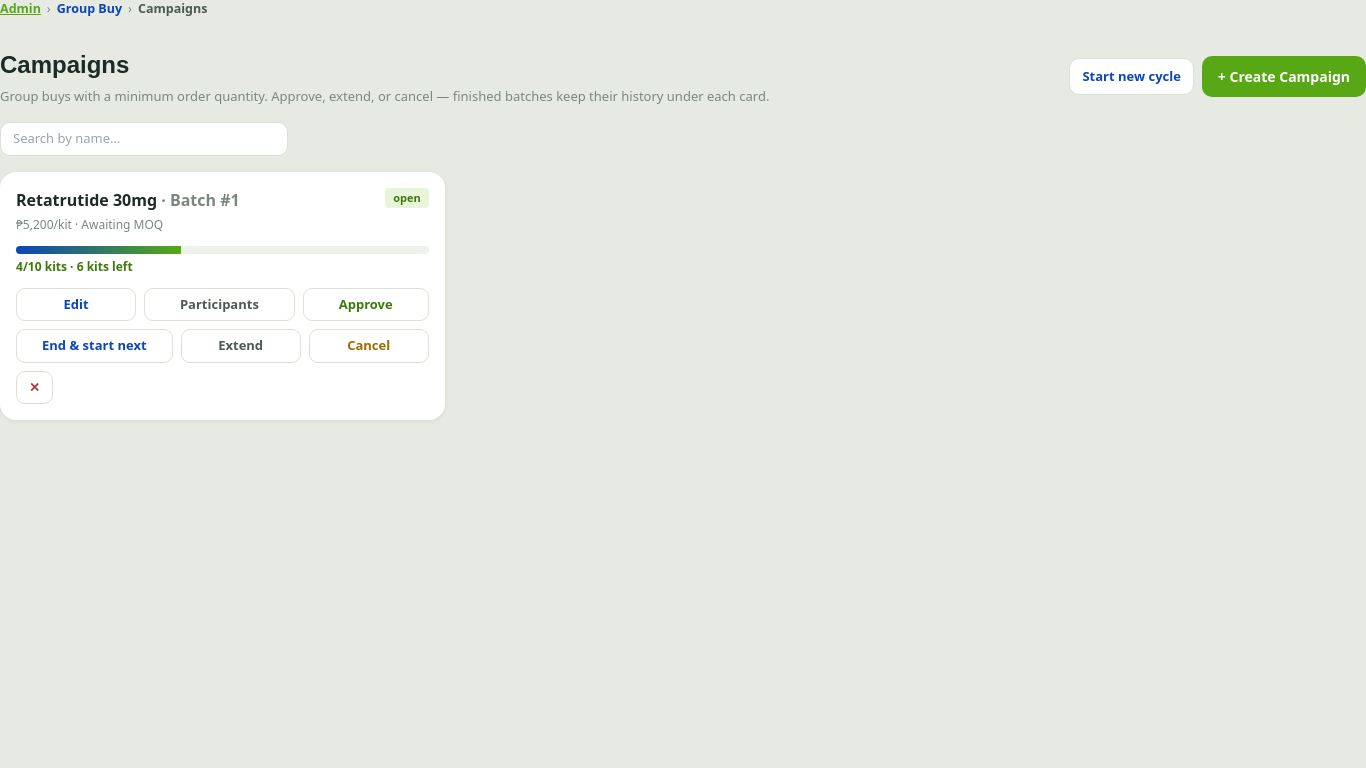
Test: ending one batch › says the customers keep their orders, since the admin settles those
Click the button "End & start next" at (94, 346), box [16, 329, 173, 363]
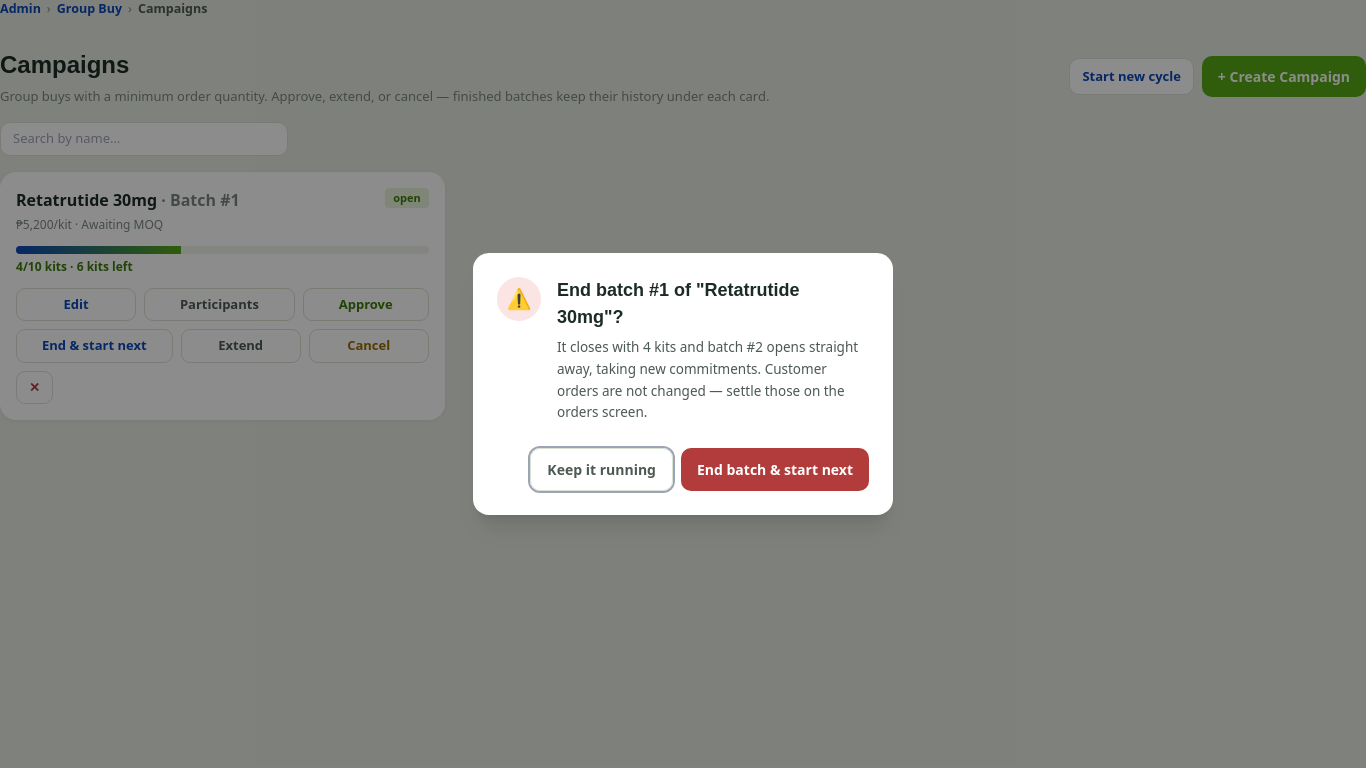
Result: the text "orders are not changed" is shown at [557, 338, 858, 421]
